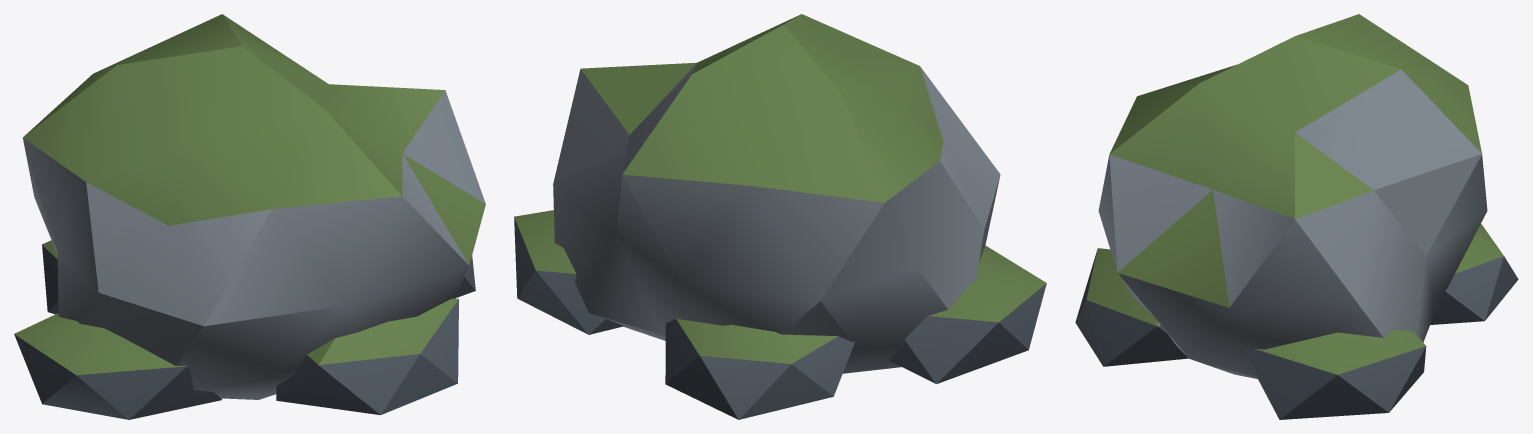
Rendered from boulder.glb.
The picture shows the model from 3 angles, left to right: view 1: azimuth 30°, elevation 25°; view 2: azimuth 150°, elevation 25°; view 3: azimuth 270°, elevation 25°; orthographic projection. The views are drawn at different scales.
Parts seen in each view (by area): view 1: boulder; view 2: boulder; view 3: boulder.
Part boxes in pixels (<box>): boulder: <box>14,14,485,419</box>; boulder: <box>514,14,1046,419</box>; boulder: <box>1075,14,1518,419</box>.
Bounding box in the file's own units: 4.24 × 2.71 × 3.64.
